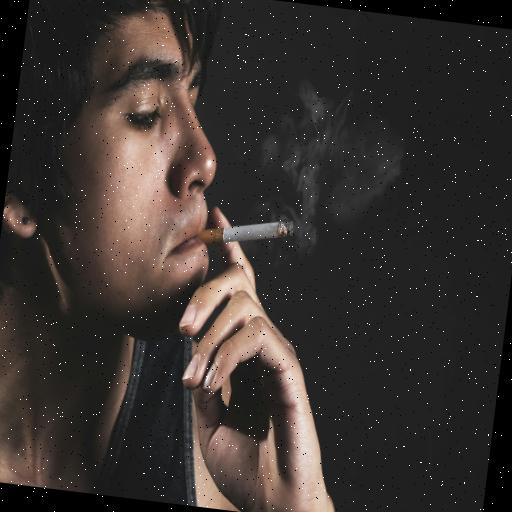terdeteksi merokok: (162, 75, 320, 353)
